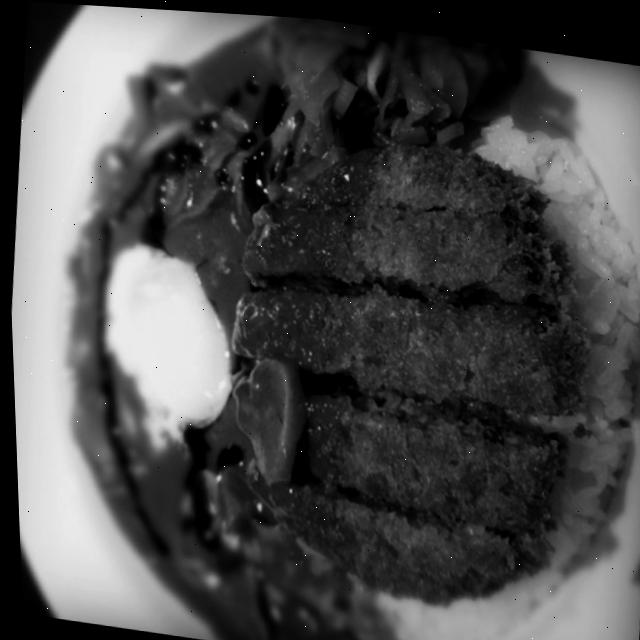炸货点心: (188, 103, 603, 624)
